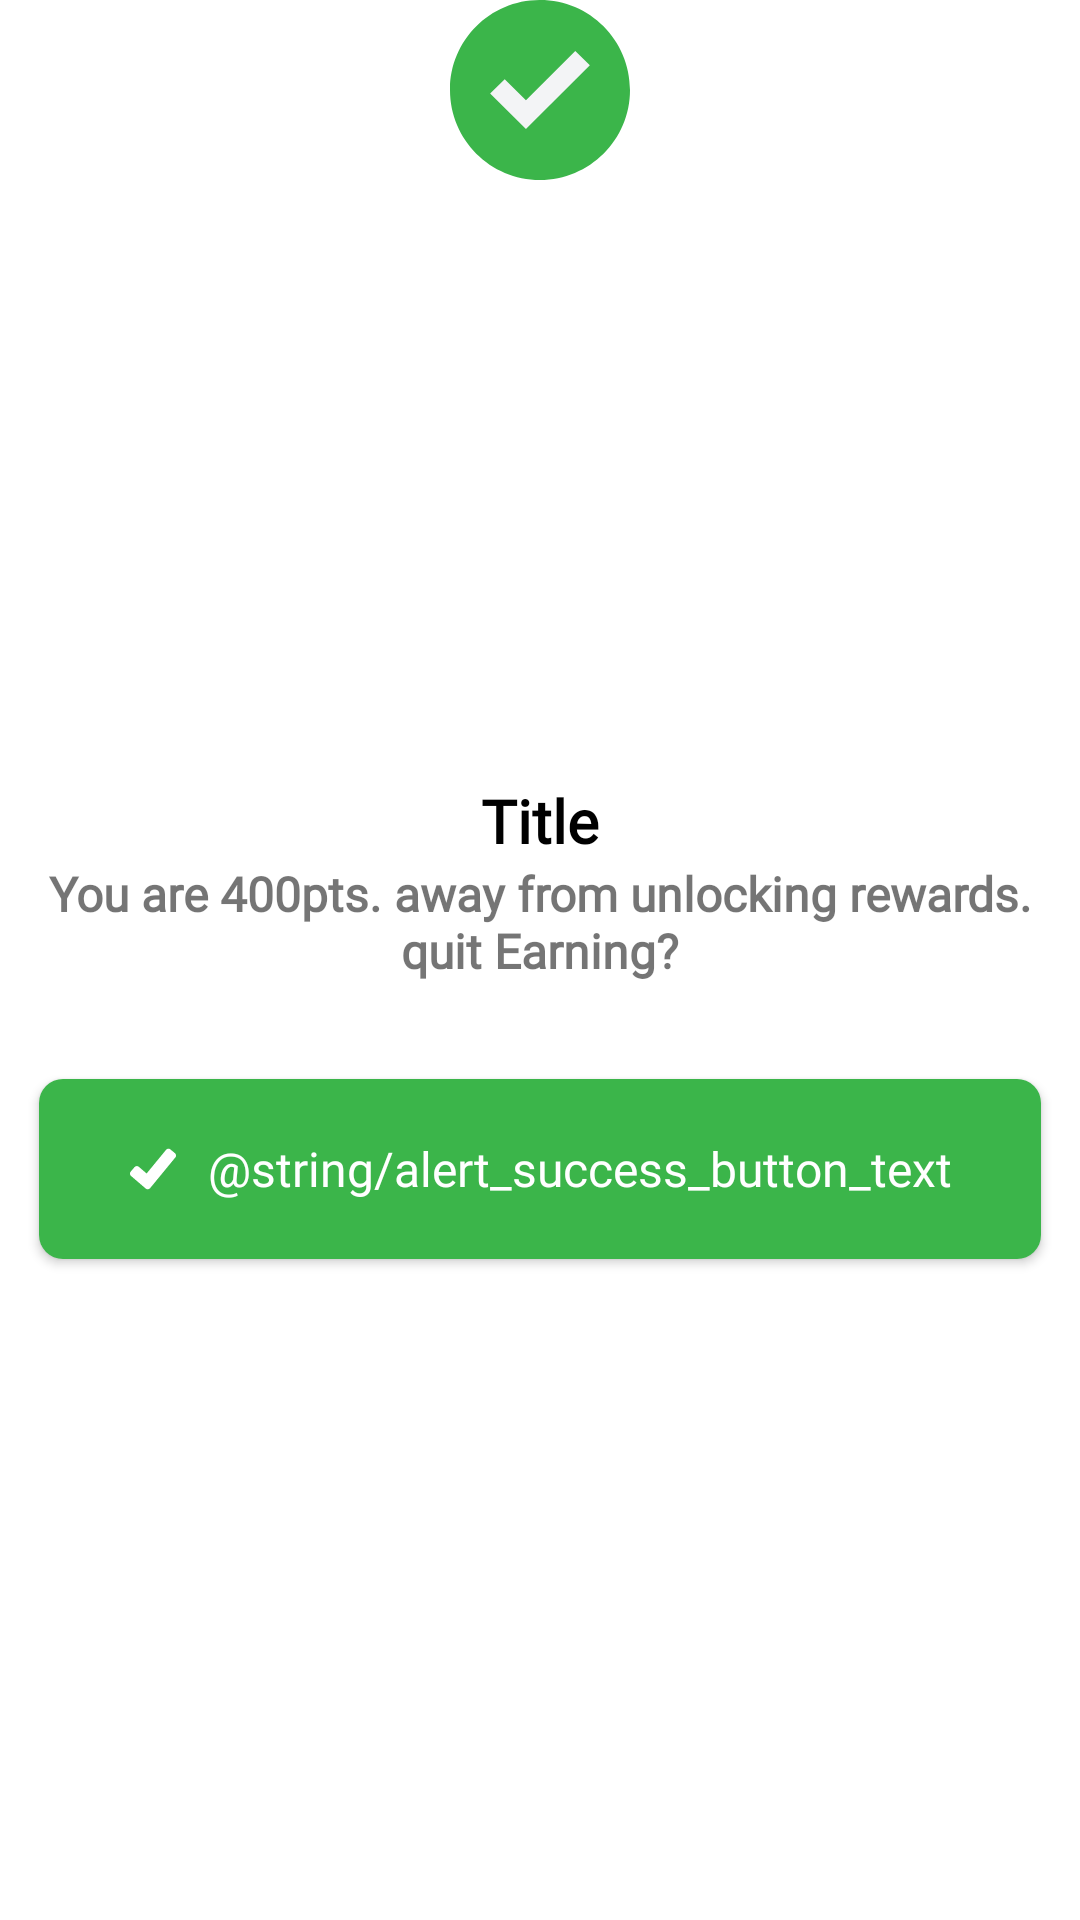

Where to tap for icons on this 1080 x 1920 app screen, as [x,y]:
alert success: [540,90]
